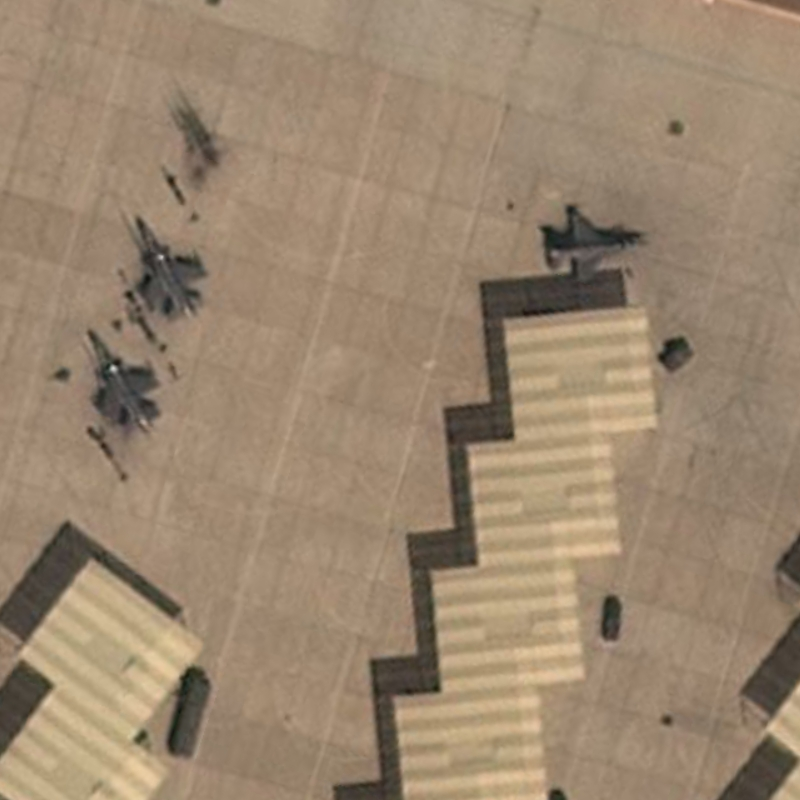A5: (81, 319, 166, 440), (129, 205, 210, 323), (541, 203, 657, 285)
